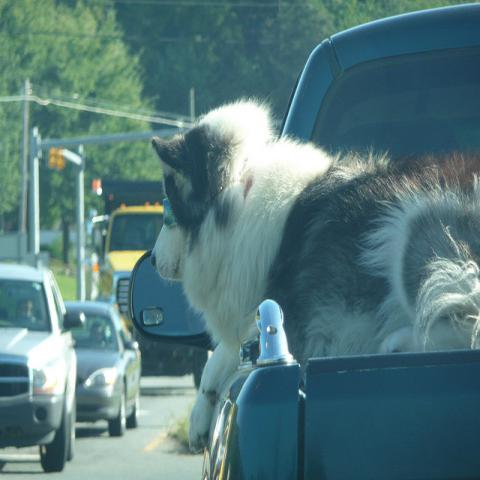car: (0, 261, 89, 472), (66, 301, 141, 441)
truck: (127, 2, 479, 479), (88, 177, 164, 327)
